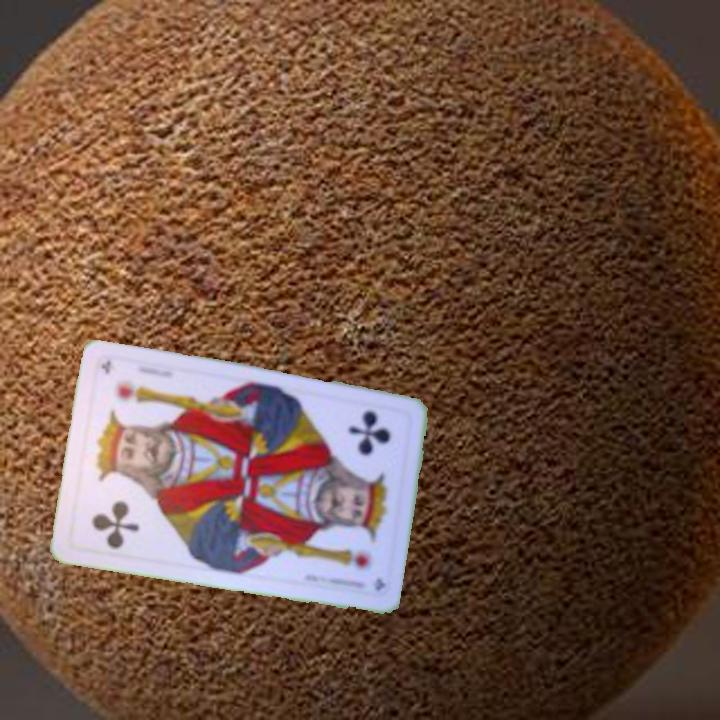c_k.png: (314, 393, 414, 505), (66, 449, 166, 560)
